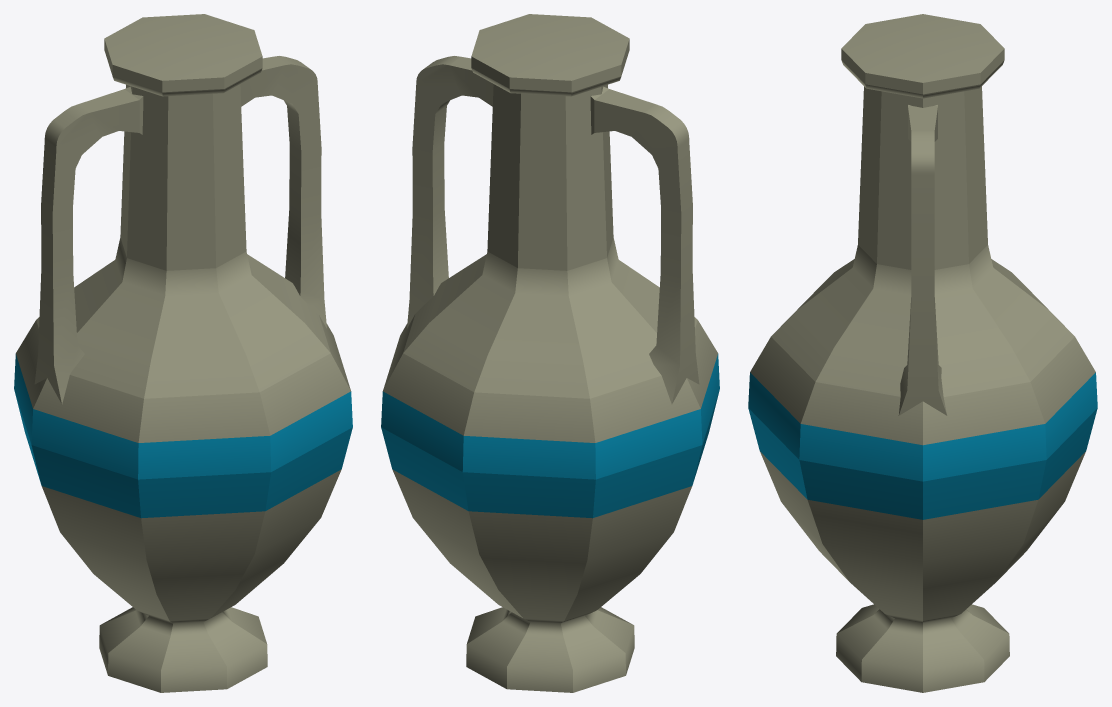
Rendered from Vase_01.fbx.
3 views of the same model, side by side, from view 1: azimuth 30°, elevation 25°; view 2: azimuth 150°, elevation 25°; view 3: azimuth 270°, elevation 25° (orthographic).
Parts seen in each view (by area): view 1: pCube3; view 2: pCube3; view 3: pCube3.
Part boxes in pixels (<box>): pCube3: <box>14,14,352,692</box>; pCube3: <box>381,14,719,692</box>; pCube3: <box>748,14,1097,692</box>.
Bounding box in the file's own units: 8.81 × 17.05 × 8.81.
